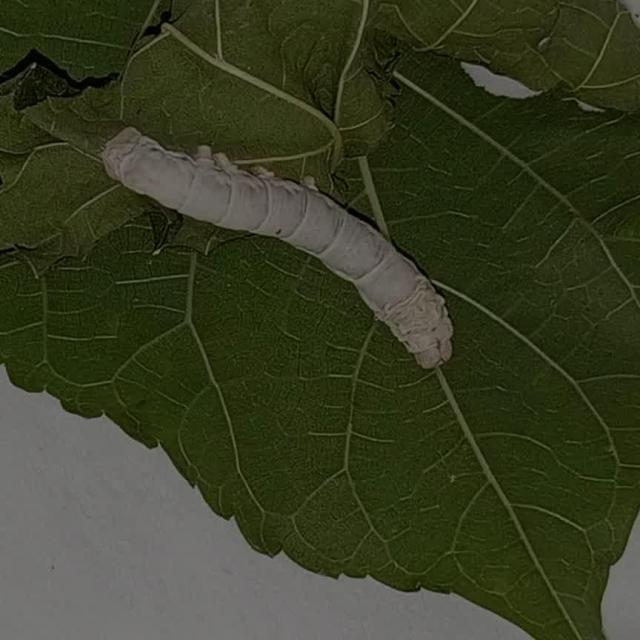Healthy: (83, 98, 480, 402)
